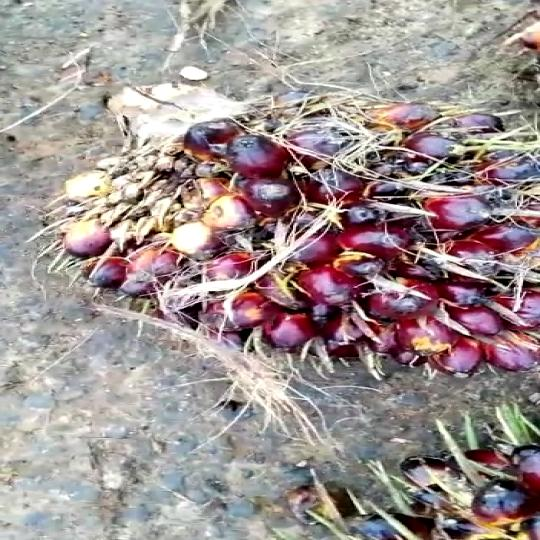kurang masak: (30, 69, 540, 392)
